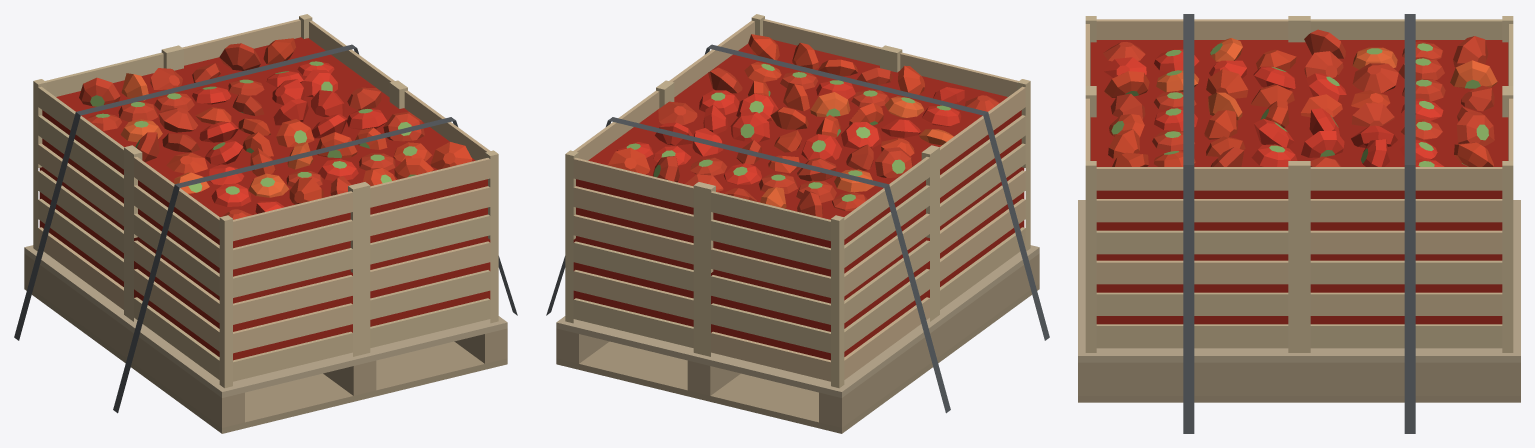
Rendered from produce-pallet-tomatoes.glb.
The picture shows the model from 3 angles, left to right: view 1: azimuth 30°, elevation 25°; view 2: azimuth 150°, elevation 25°; view 3: azimuth 270°, elevation 25°; orthographic projection. The views are drawn at different scales.
Visible parts, largest first — view 1: ProducePalletTomatoes_CrateWood, ProducePalletTomatoes_Produce, ProducePalletTomatoes_PalletWood, ProducePalletTomatoes_Strap; view 2: ProducePalletTomatoes_CrateWood, ProducePalletTomatoes_Produce, ProducePalletTomatoes_PalletWood, ProducePalletTomatoes_Strap; view 3: ProducePalletTomatoes_CrateWood, ProducePalletTomatoes_Produce, ProducePalletTomatoes_PalletWood, ProducePalletTomatoes_Strap.
Boxes of the visible parts, x1,y1,x2,y2 form: ProducePalletTomatoes_CrateWood: (33,14,498,388); ProducePalletTomatoes_Produce: (39,37,490,360); ProducePalletTomatoes_PalletWood: (24,245,507,433); ProducePalletTomatoes_Strap: (14,44,517,413); ProducePalletTomatoes_CrateWood: (565,14,1030,388); ProducePalletTomatoes_Produce: (573,34,1024,360); ProducePalletTomatoes_PalletWood: (556,245,1039,433); ProducePalletTomatoes_Strap: (546,44,1049,413); ProducePalletTomatoes_CrateWood: (1085,16,1513,352); ProducePalletTomatoes_Produce: (1090,29,1508,324); ProducePalletTomatoes_PalletWood: (1078,200,1520,402); ProducePalletTomatoes_Strap: (1183,14,1415,433).
Size of the model in its own units: 1.4 by 0.7157 by 1.2.
